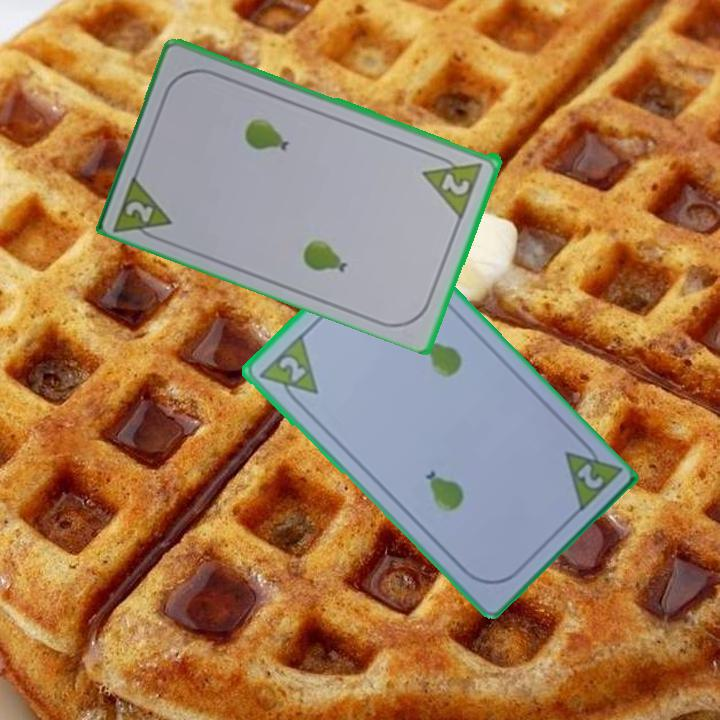2p: (254, 330, 321, 411), (572, 459, 606, 492), (438, 169, 473, 198), (122, 196, 157, 225)
